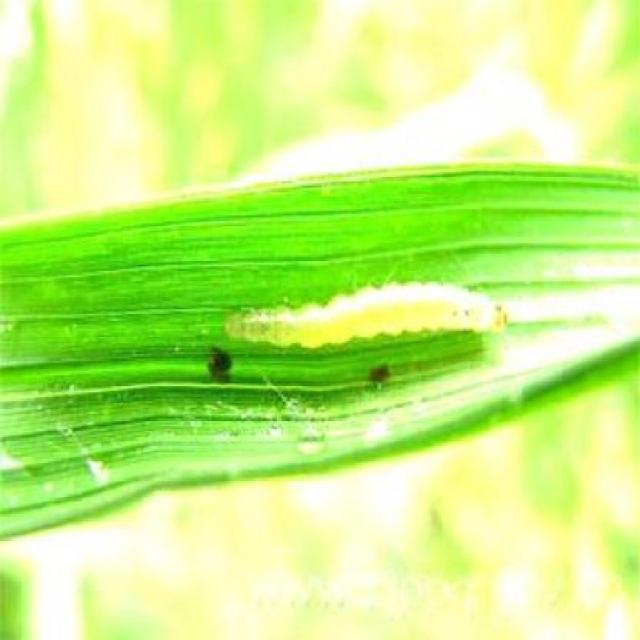leaf-folder: (233, 262, 512, 387)
